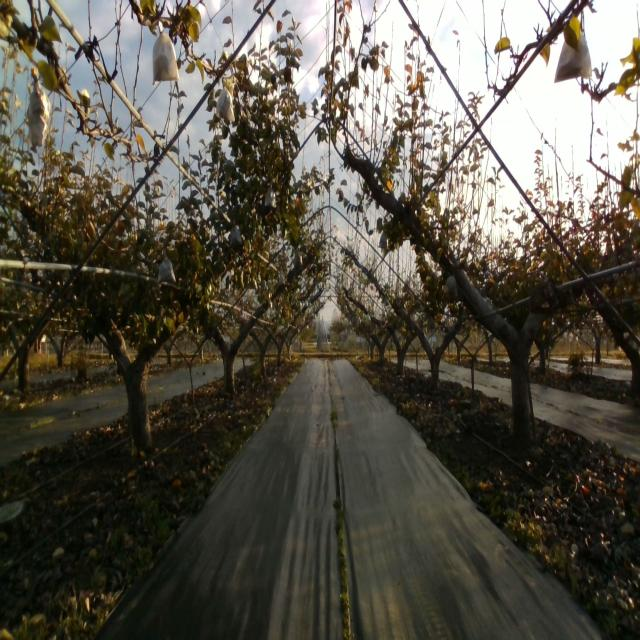pearbags: (554, 31, 592, 83), (26, 74, 51, 147), (152, 20, 179, 86), (216, 78, 235, 122), (157, 254, 176, 284), (442, 274, 458, 298), (264, 183, 277, 208), (228, 226, 242, 246), (377, 230, 388, 249)
